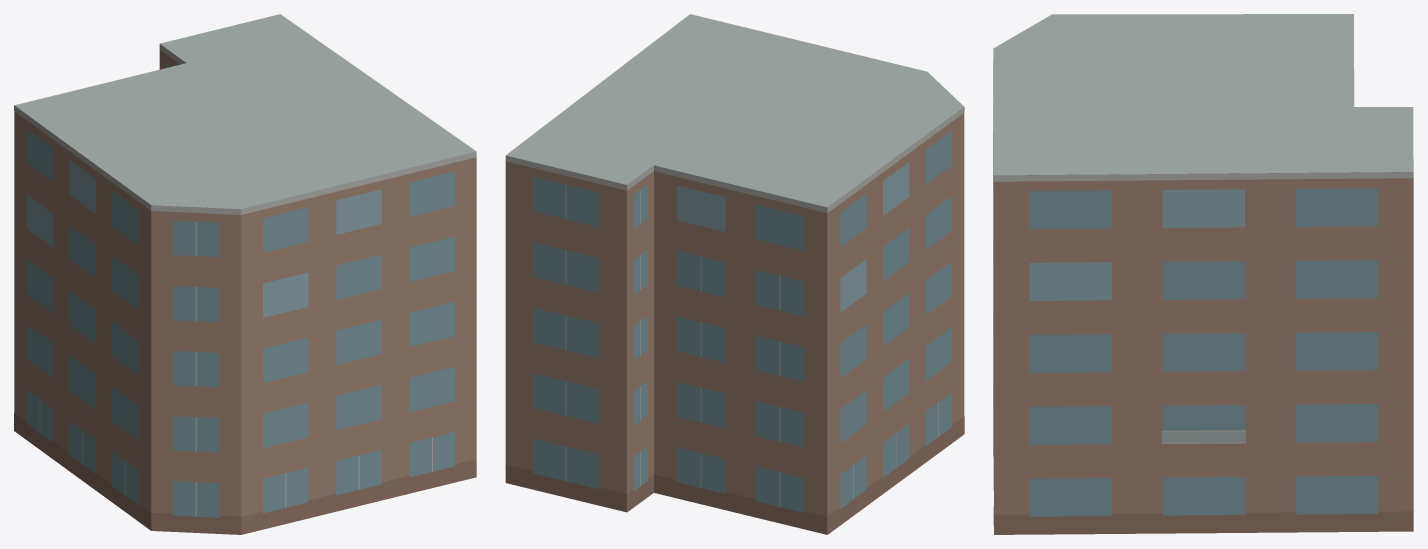
File: survey-upis-32723295.glb
3 views of the same model, side by side, from view 1: azimuth 30°, elevation 25°; view 2: azimuth 150°, elevation 25°; view 3: azimuth 270°, elevation 25° (orthographic). The views are drawn at different scales.
Parts seen in each view (by area): view 1: survey-upis-32723295.tmp; view 2: survey-upis-32723295.tmp; view 3: survey-upis-32723295.tmp.
Boxes of the visible parts, <box> form: survey-upis-32723295.tmp: <box>14,14,476,534</box>; survey-upis-32723295.tmp: <box>505,14,964,534</box>; survey-upis-32723295.tmp: <box>993,14,1413,534</box>.
Size of the model in its own units: 13.39 by 13.9 by 14.73.
